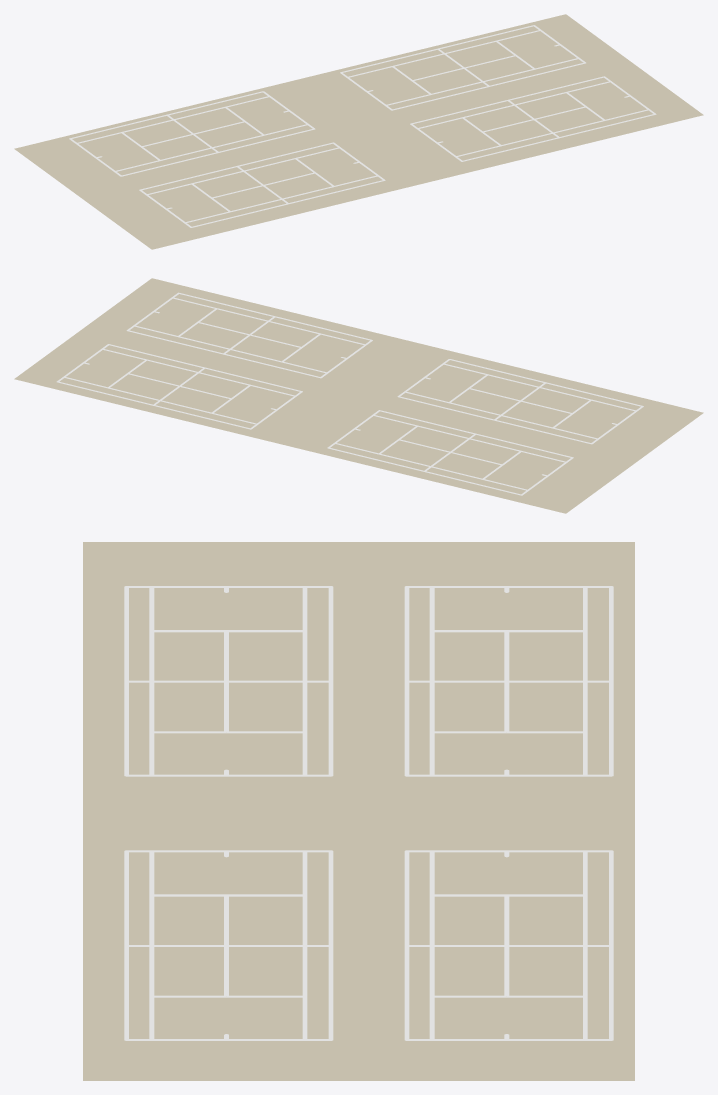
File: TennisCourt.fbx
The picture shows the model from 3 angles, top to bottom: view 1: azimuth 30°, elevation 25°; view 2: azimuth 150°, elevation 25°; view 3: azimuth 270°, elevation 25°; orthographic projection. The views are drawn at different scales.
Visible parts, largest first — view 1: TennisCourt; view 2: TennisCourt; view 3: TennisCourt.
Boxes of the visible parts, x1,y1,x2,y2 form: TennisCourt: (14,14,703,249); TennisCourt: (14,278,703,513); TennisCourt: (83,542,634,1080).
Bounding box in the file's own units: 67.52 × 0.2436 × 29.23.
